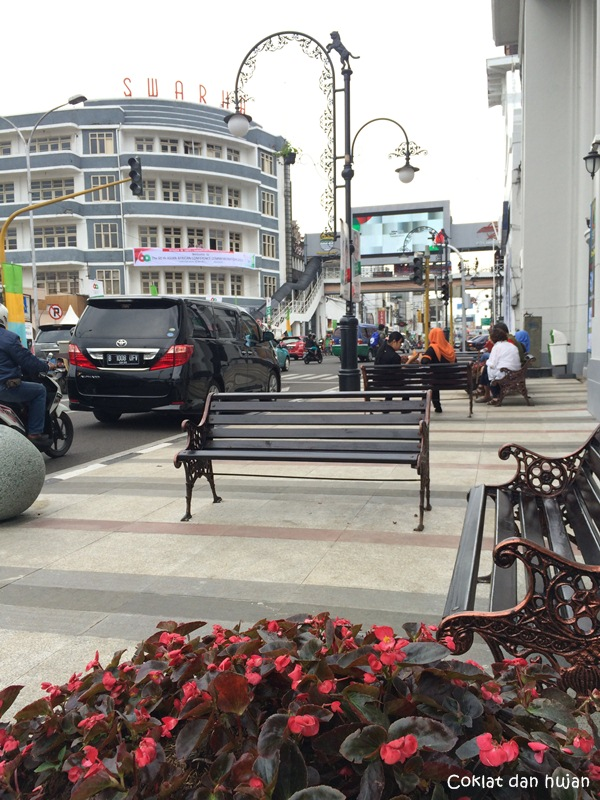bench: (170, 385, 437, 526), (450, 424, 599, 652)
bollard: (336, 317, 362, 399)
